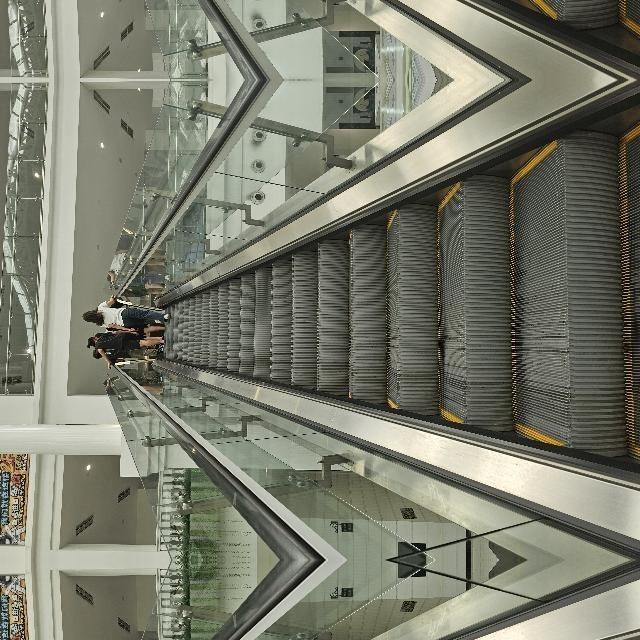person: (227, 162, 265, 250), (190, 168, 232, 245), (275, 187, 311, 250)
stair: (84, 236, 419, 640), (84, 400, 419, 640)
